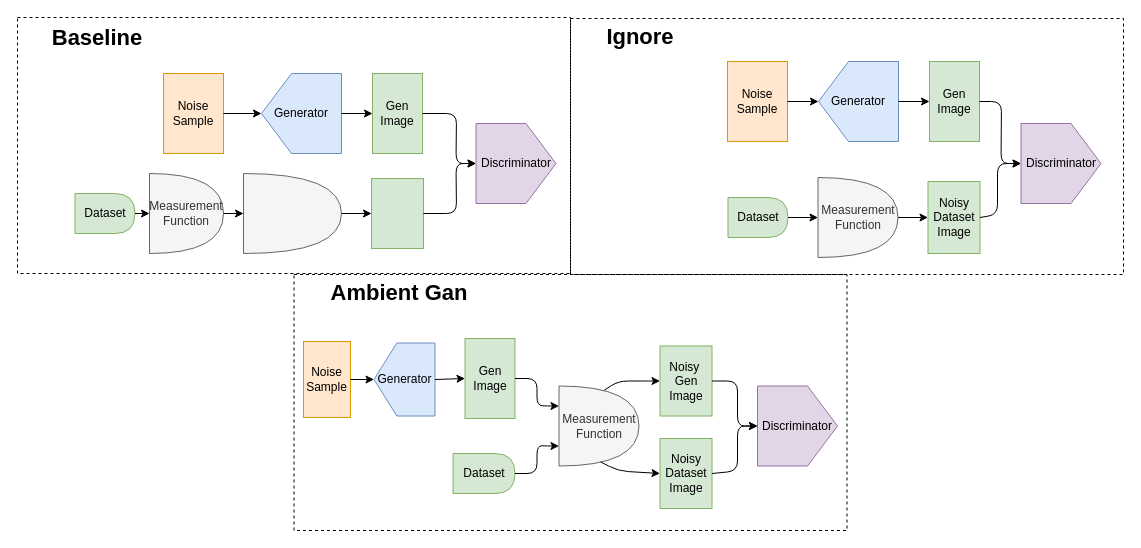
This 1141x548 diagram has some shape labels left out. Each missing label, with the centre of its shape:
Dataset Image: pixel 397 213
Psuedo-Inverse Measurement Function: pixel 292 213
